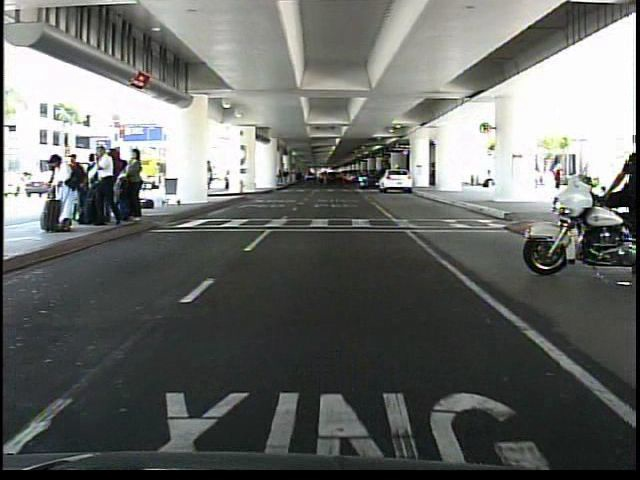person: (607, 126, 640, 224), (543, 156, 566, 195), (481, 163, 494, 194)
